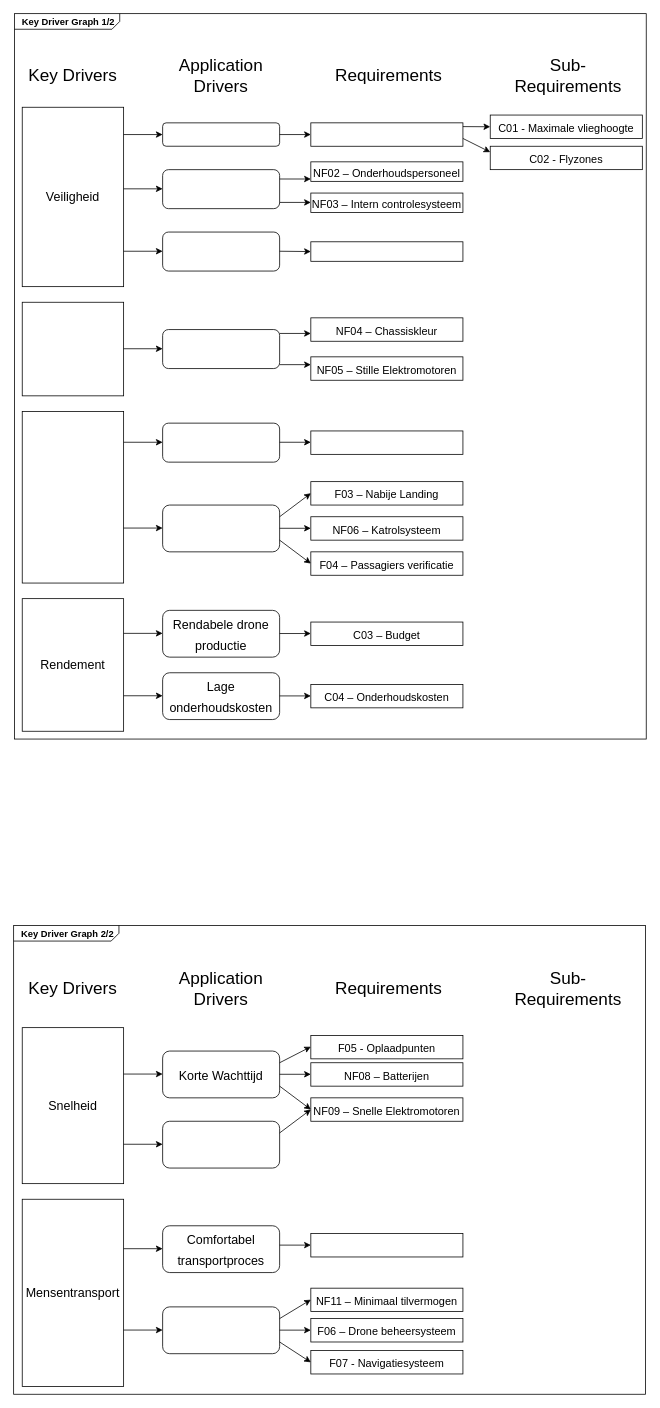
Some shapes in this 660 by 1408 pixel diagram are drawn without their labels. The box of each missing label's shape, as (x1, y1, x2, y2) in pixels:
Competitief met auto's: (162, 1120, 280, 1168)
F01 – Afstand meten: (310, 241, 463, 261)
F02 – Phone App: (310, 430, 463, 454)
Gebruiksgemak: (21, 411, 124, 583)
Gemakkelijk Bemanningsproces: (162, 504, 280, 552)
NF01 – Procedures: (310, 122, 463, 146)
NF10 - Interieur: (310, 1233, 463, 1257)
Overzichtelijke App: (162, 422, 280, 462)
Periodieke hardware check: (162, 169, 280, 209)
Publiek: (21, 301, 124, 396)
Stoort de omgeving niet: (162, 329, 280, 369)
Transportsysteem: (162, 1306, 280, 1354)
Veilige afstand behouden: (162, 231, 280, 271)
Volgt procedures: (162, 122, 280, 146)
